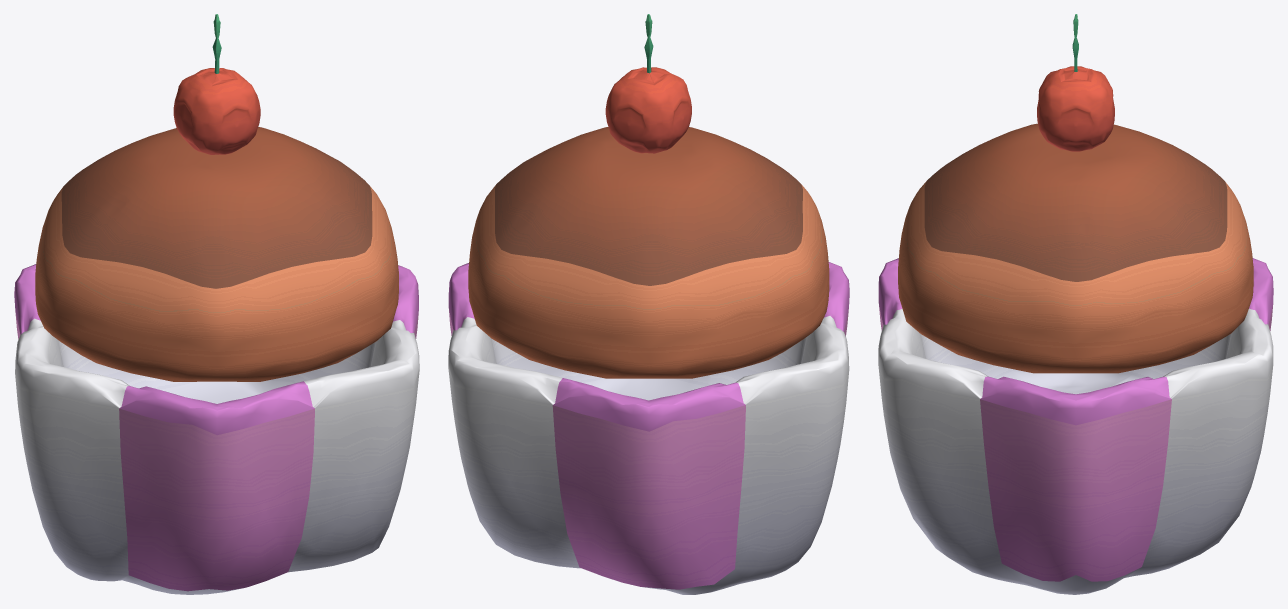
The model's file is cupcake.glb.
The picture shows the model from 3 angles, left to right: view 1: azimuth 30°, elevation 25°; view 2: azimuth 150°, elevation 25°; view 3: azimuth 270°, elevation 25°; orthographic projection. The views are drawn at different scales.
Size of the model in its own units: 0.756 by 0.9752 by 0.6745.
Materials: 1 (1 with a texture image).
